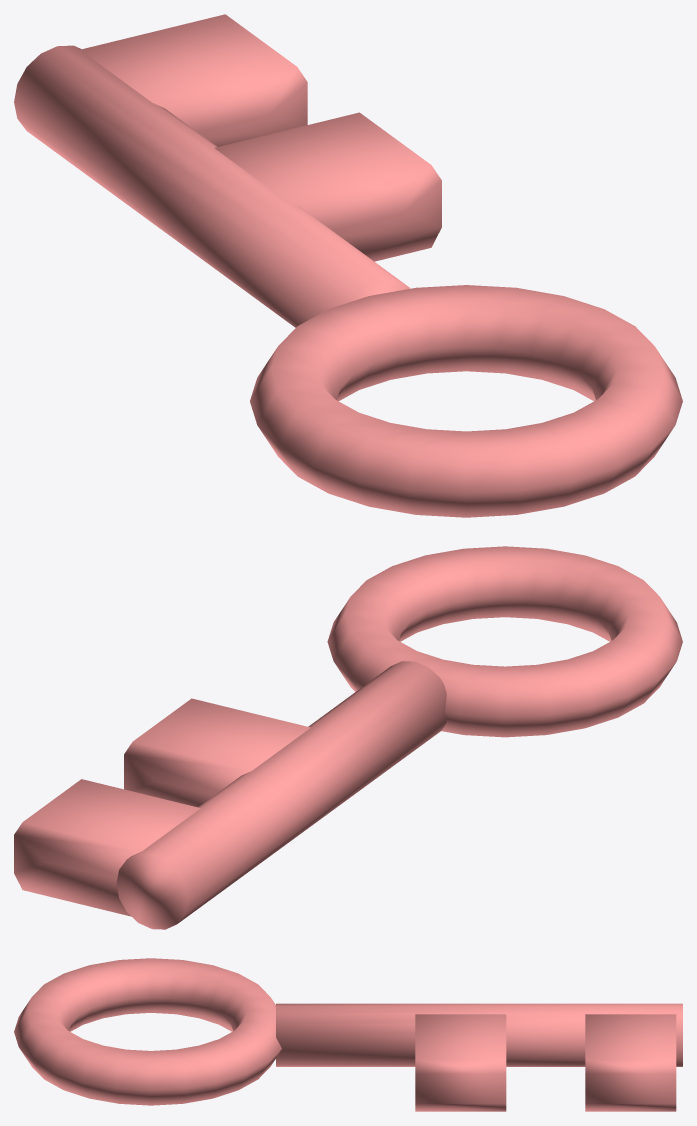
Rendered from Llave Roja.fbx.
The picture shows the model from 3 angles, top to bottom: view 1: azimuth 30°, elevation 25°; view 2: azimuth 150°, elevation 25°; view 3: azimuth 270°, elevation 25°; orthographic projection. The views are drawn at different scales.
Parts seen in each view (by area): view 1: Cube.031; view 2: Cube.031; view 3: Cube.031.
Part boxes in pixels (bbox=[...]): Cube.031: bbox=[14, 14, 682, 517]; Cube.031: bbox=[14, 546, 682, 929]; Cube.031: bbox=[14, 958, 682, 1111].
Size of the model in its own units: 17 by 3.93 by 41.46.
